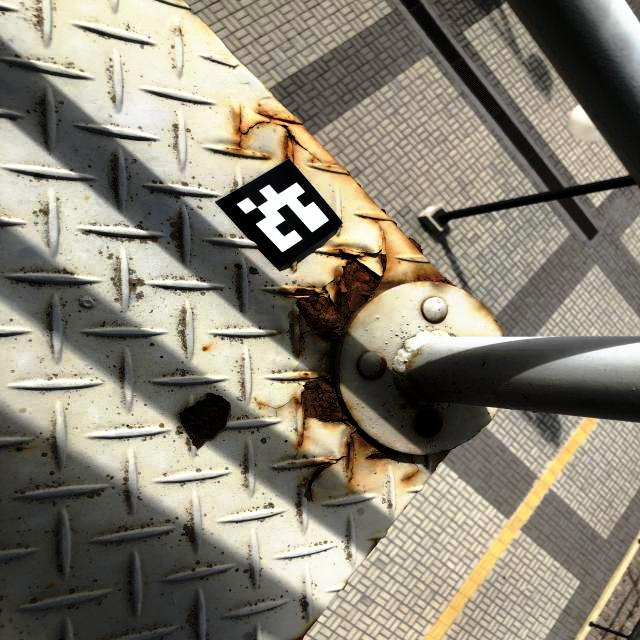Corrosion: (281, 215, 455, 358), (290, 370, 421, 503), (222, 106, 333, 167), (414, 409, 443, 437), (376, 355, 387, 376), (202, 346, 209, 351), (290, 263, 294, 269)
